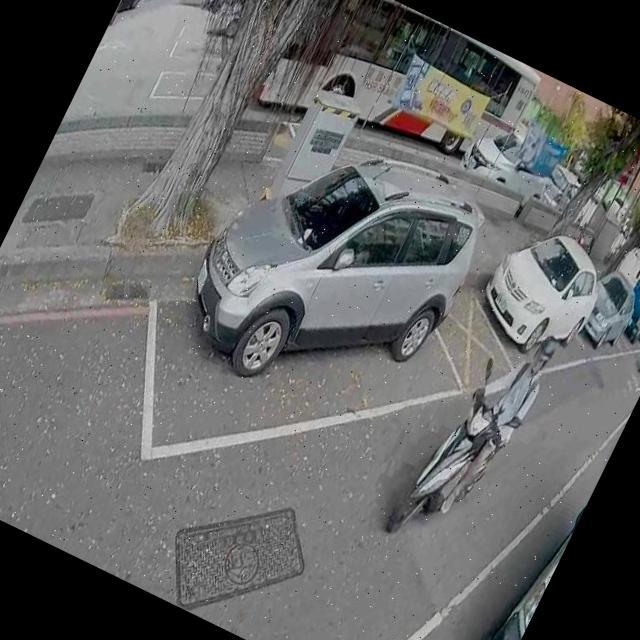person: (416, 310, 566, 530), (203, 0, 234, 13)
